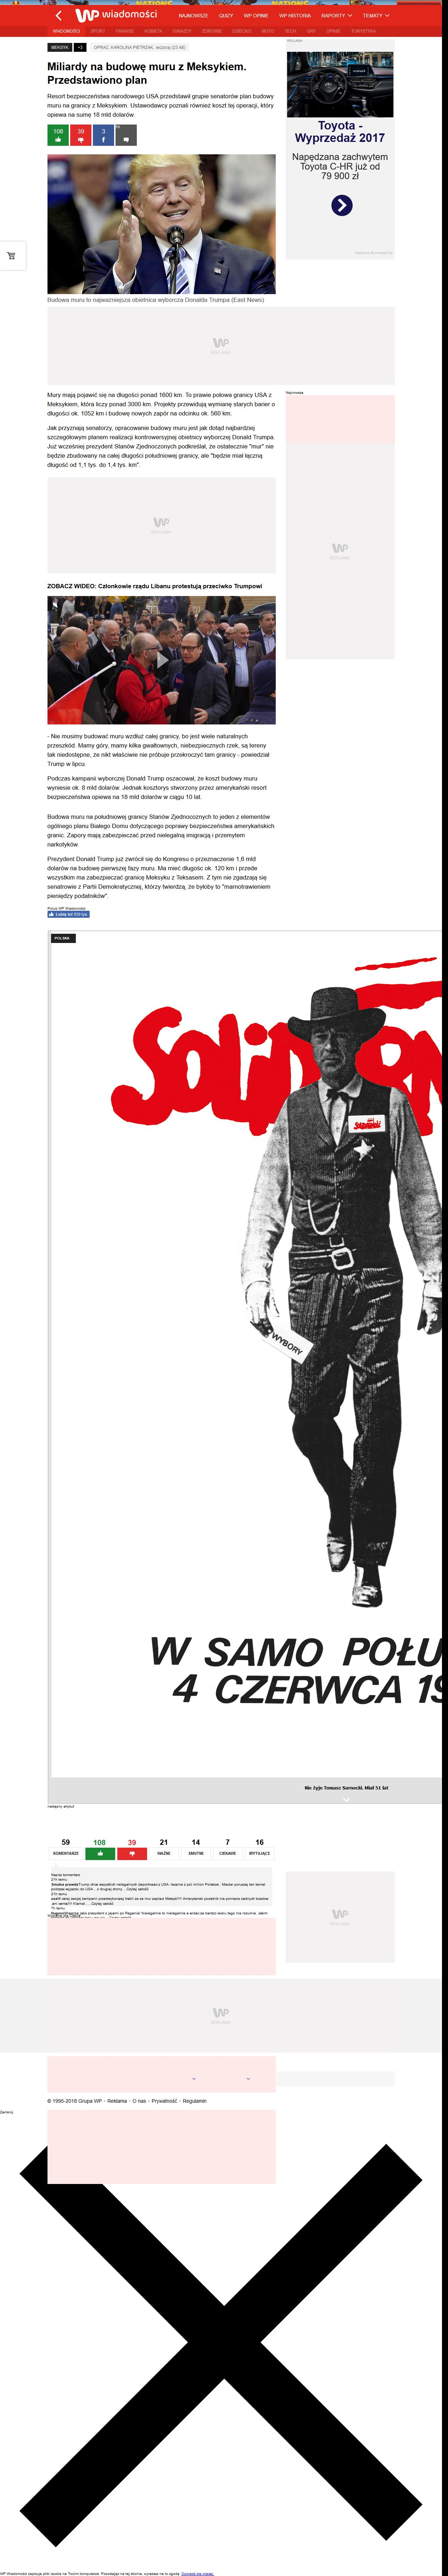title: (48, 61, 246, 85)
